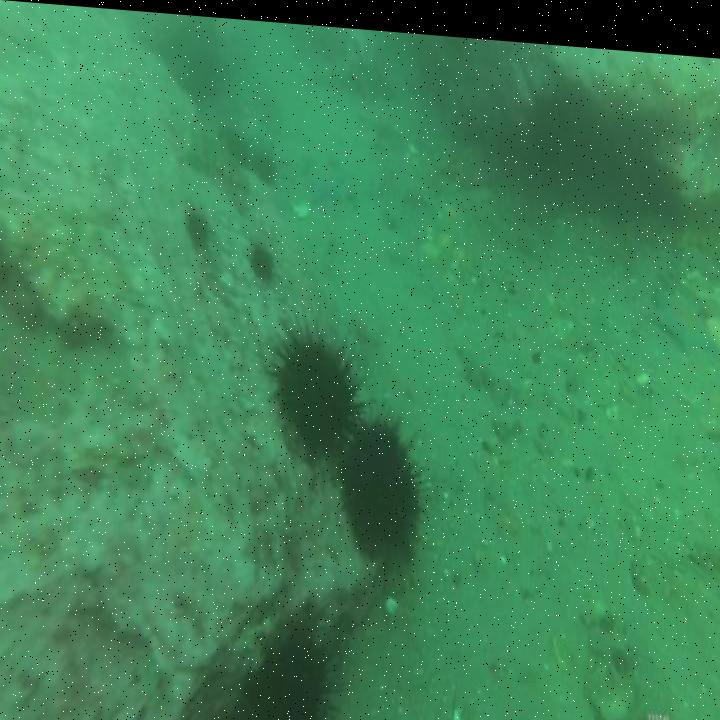echinus: (341, 408, 417, 555), (271, 327, 356, 457), (251, 626, 329, 720), (186, 205, 207, 248), (251, 242, 272, 279)
starfish: (651, 278, 714, 343)
